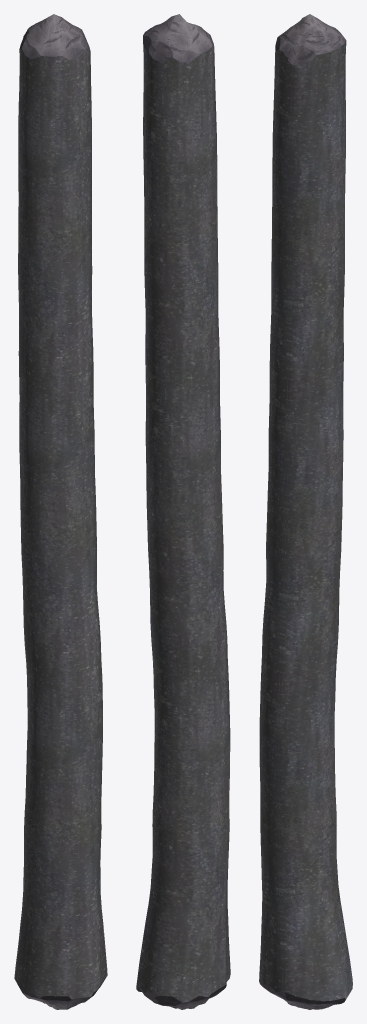
The picture shows the model from 3 angles, left to right: view 1: azimuth 90°, elevation 25°; view 2: azimuth 150°, elevation 25°; view 3: azimuth 330°, elevation 25°; orthographic projection.
Visible parts, largest first — view 1: SM_FH_Ash_Tree_03_tree_quarters_bottom_LOD0; view 2: SM_FH_Ash_Tree_03_tree_quarters_bottom_LOD0; view 3: SM_FH_Ash_Tree_03_tree_quarters_bottom_LOD0.
Part boxes in pixels (x1,y1,x2,y2): SM_FH_Ash_Tree_03_tree_quarters_bottom_LOD0: (14,14,107,1009); SM_FH_Ash_Tree_03_tree_quarters_bottom_LOD0: (136,14,230,1009); SM_FH_Ash_Tree_03_tree_quarters_bottom_LOD0: (259,14,352,1009).
Bounding box in the file's own units: 0.5918 × 6.81 × 0.5785.
Materials: 1 (1 with a texture image).
